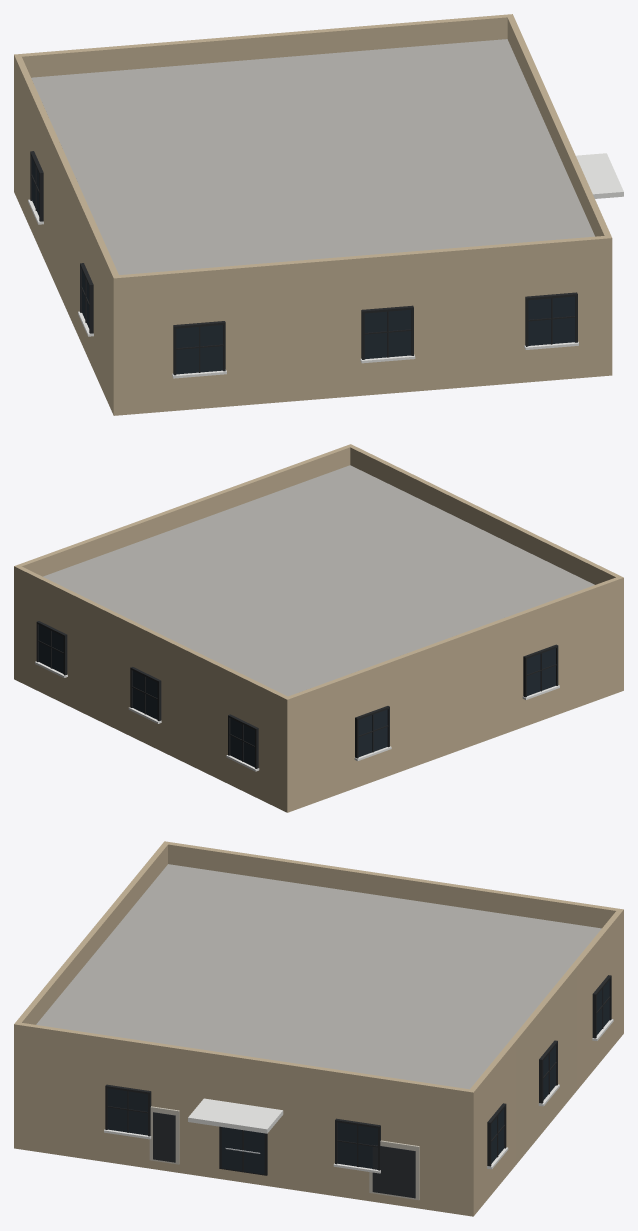
Rendered from physics_annex.glb.
The picture shows the model from 3 angles, top to bottom: view 1: azimuth 30°, elevation 25°; view 2: azimuth 150°, elevation 25°; view 3: azimuth 270°, elevation 25°; orthographic projection. The views are drawn at different scales.
Parts seen in each view (by area): view 1: physics_annex_Roof_Membrane, physics_annex_Wall_tan, physics_annex_Glass_dark, physics_annex_Frame_Dark, physics_annex_Trim_White; view 2: physics_annex_Wall_tan, physics_annex_Roof_Membrane, physics_annex_Glass_dark, physics_annex_Frame_Dark, physics_annex_Trim_White; view 3: physics_annex_Roof_Membrane, physics_annex_Wall_tan, physics_annex_Glass_dark, physics_annex_Frame_Dark, physics_annex_Door_Steel_Dark, physics_annex_Trim_White, physics_annex_Door_Surround.
Boxes of the visible parts, box(x1,y1,x2,y2) form: physics_annex_Roof_Membrane: box(31, 39, 594, 274); physics_annex_Wall_tan: box(14, 14, 612, 415); physics_annex_Glass_dark: box(32, 158, 575, 374); physics_annex_Frame_Dark: box(30, 151, 577, 375); physics_annex_Trim_White: box(28, 153, 623, 378); physics_annex_Wall_tan: box(14, 444, 623, 812); physics_annex_Roof_Membrane: box(43, 465, 594, 696); physics_annex_Glass_dark: box(38, 625, 555, 767); physics_annex_Frame_Dark: box(36, 621, 558, 768); physics_annex_Trim_White: box(35, 661, 559, 771); physics_annex_Roof_Membrane: box(36, 864, 601, 1089); physics_annex_Wall_tan: box(14, 841, 623, 1216); physics_annex_Glass_dark: box(107, 980, 609, 1174); physics_annex_Frame_Dark: box(105, 975, 611, 1175); physics_annex_Door_Steel_Dark: box(153, 1112, 415, 1198); physics_annex_Trim_White: box(104, 1019, 613, 1173); physics_annex_Door_Surround: box(149, 1106, 419, 1200).
Bounding box in the file's own units: 24.74 × 5.7 × 25.38.
